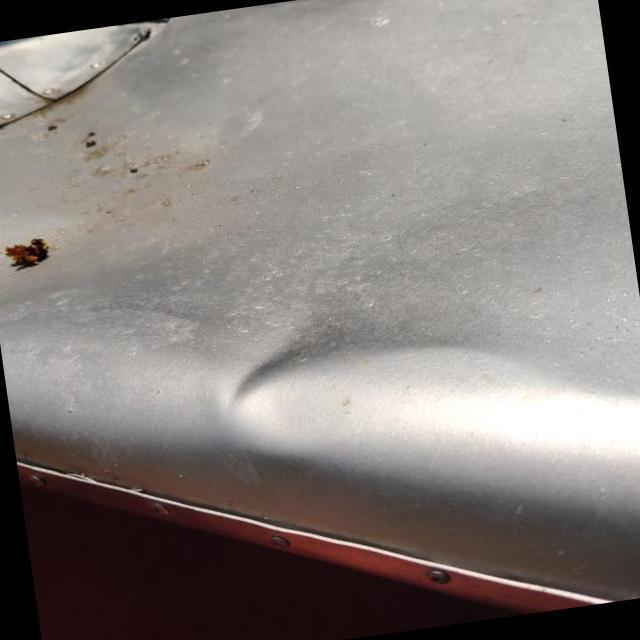Dent: (188, 282, 362, 443)
